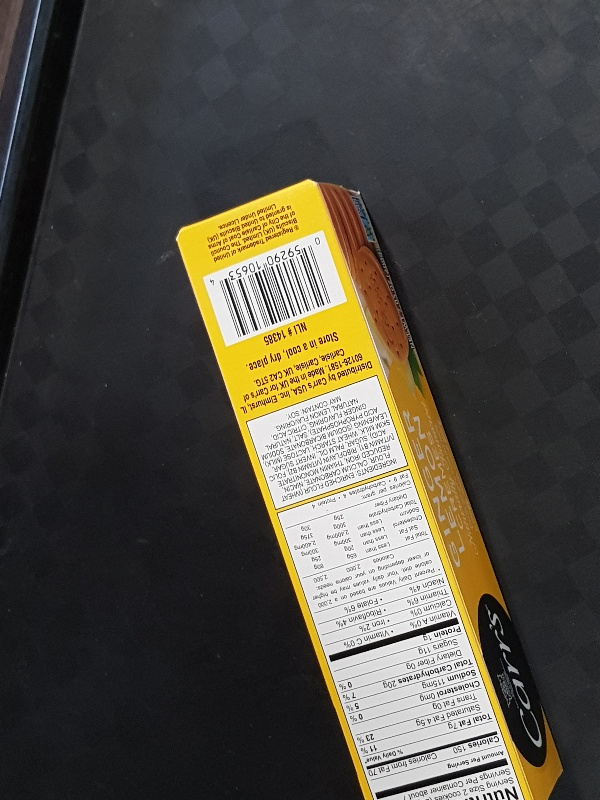Carr's Ginger Lemon Cremes: (176, 177, 565, 800)
